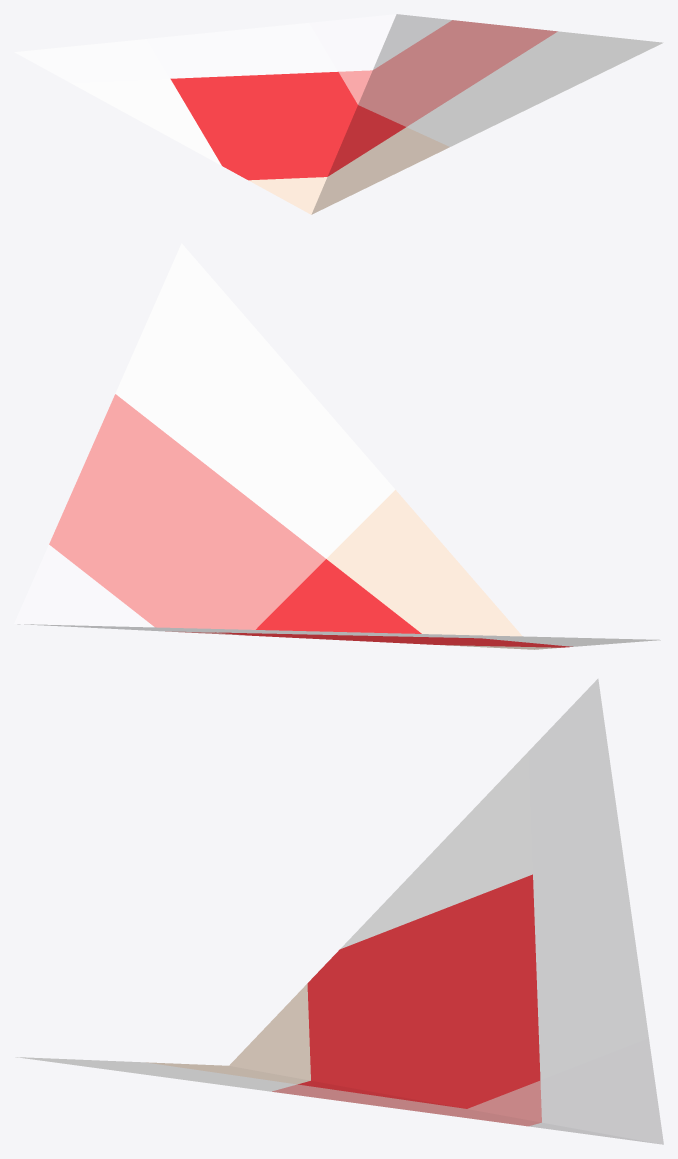
The model's file is mp-01030-geode.glb.
3 views of the same model, one above another, from view 1: azimuth 30°, elevation 25°; view 2: azimuth 150°, elevation 25°; view 3: azimuth 270°, elevation 25° (orthographic). The views are drawn at different scales.
Parts seen in each view (by area): view 1: Node; view 2: Node; view 3: Node.
Part boxes in pixels (x1,y1,x2,y2): Node: [14, 14, 663, 214]; Node: [14, 243, 660, 649]; Node: [15, 678, 663, 1144].
Size of the model in its own units: 0.2513 by 0.0733 by 0.17.
Materials: 1 (1 with a texture image).
